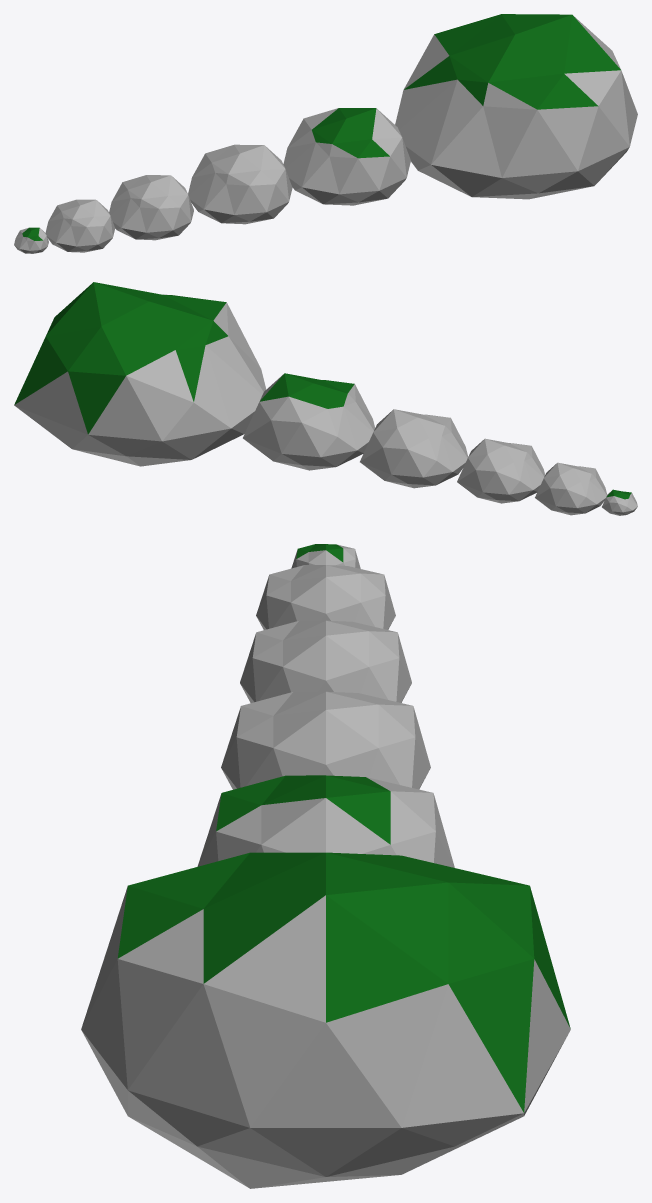
File: Rocks.fbx
3 renders of one model, top to bottom at view 1: azimuth 30°, elevation 25°; view 2: azimuth 150°, elevation 25°; view 3: azimuth 270°, elevation 25°, orthographic. The views are drawn at different scales.
Parts seen in each view (by area): view 1: Rock006, Rock004, Rock003, Rock002, Rock005, Rock001; view 2: Rock006, Rock004, Rock003, Rock002, Rock005, Rock001; view 3: Rock006, Rock004, Rock003, Rock002, Rock005, Rock001.
Part boxes in pixels (left/top/right/bottom): Rock006: left=395, top=14, right=637, bottom=199; Rock004: left=283, top=108, right=410, bottom=205; Rock003: left=188, top=144, right=292, bottom=224; Rock002: left=109, top=175, right=193, bottom=240; Rock005: left=45, top=199, right=115, bottom=252; Rock001: left=14, top=227, right=48, bottom=253; Rock006: left=14, top=282, right=266, bottom=466; Rock004: left=243, top=373, right=374, bottom=470; Rock003: left=360, top=409, right=468, bottom=488; Rock002: left=457, top=438, right=544, bottom=503; Rock005: left=535, top=462, right=607, bottom=515; Rock001: left=602, top=489, right=637, bottom=515; Rock006: left=81, top=852, right=570, bottom=1188; Rock004: left=197, top=775, right=454, bottom=867; Rock003: left=221, top=691, right=430, bottom=789; Rock002: left=240, top=620, right=411, bottom=702; Rock005: left=256, top=565, right=395, bottom=629; Rock001: left=291, top=544, right=360, bottom=568.
Size of the model in its own units: 1768 by 441 by 639.
